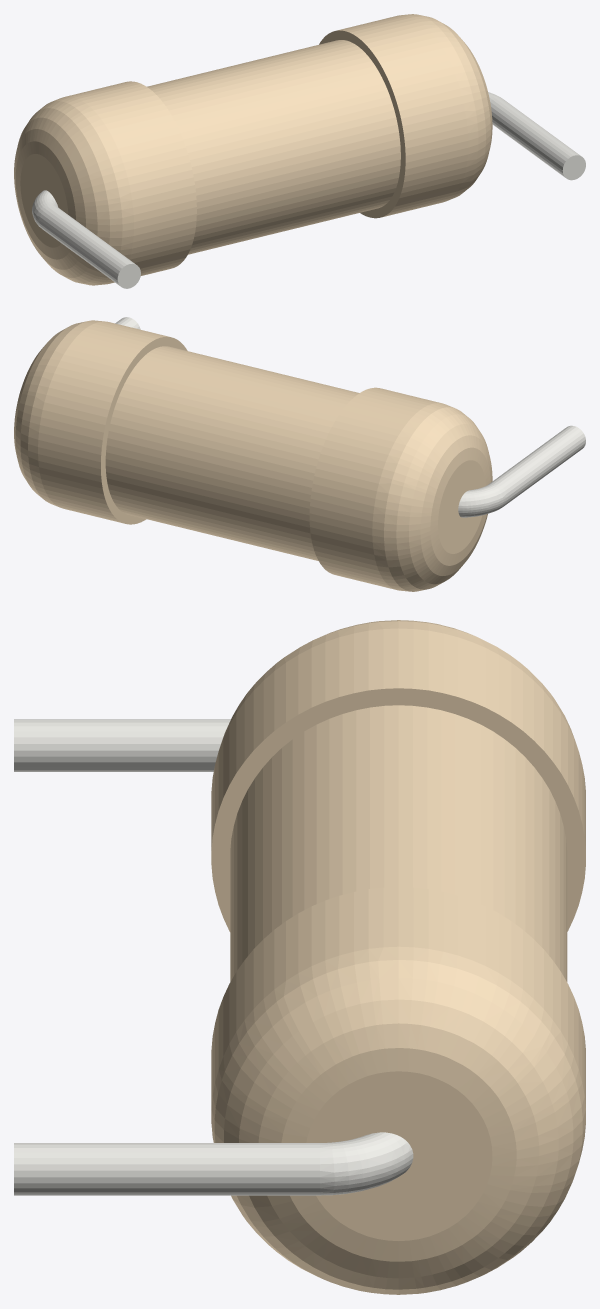
The model's file is R_Axial_DIN0614_L14.3mm_D5.7mm_P15.24mm_Horizontal.glb.
3 renders of one model, top to bottom at view 1: azimuth 30°, elevation 25°; view 2: azimuth 150°, elevation 25°; view 3: azimuth 270°, elevation 25°, orthographic. The views are drawn at different scales.
Parts seen in each view (by area): view 1: Shape_IndexedFaceSet.004, Shape_IndexedFaceSet, Shape_IndexedFaceSet.008, Shape_IndexedFaceSet.010, Shape_IndexedFaceSet.001, Shape_IndexedFaceSet.013, Shape_IndexedFaceSet.007, Shape_IndexedFaceSet.011, Shape_IndexedFaceSet.002, Shape_IndexedFaceSet.012, Shape_IndexedFaceSet.009, Shape_IndexedFaceSet.014; view 2: Shape_IndexedFaceSet.004, Shape_IndexedFaceSet.010, Shape_IndexedFaceSet.008, Shape_IndexedFaceSet, Shape_IndexedFaceSet.001, Shape_IndexedFaceSet.011, Shape_IndexedFaceSet.013, Shape_IndexedFaceSet.002, Shape_IndexedFaceSet.012; view 3: Shape_IndexedFaceSet.001, Shape_IndexedFaceSet.004, Shape_IndexedFaceSet.008, Shape_IndexedFaceSet, Shape_IndexedFaceSet.003, Shape_IndexedFaceSet.007, Shape_IndexedFaceSet.006, Shape_IndexedFaceSet.013, Shape_IndexedFaceSet.005, Shape_IndexedFaceSet.010.
Part boxes in pixels (x1,y1,x2,y2): Shape_IndexedFaceSet.004: (147,40,400,254); Shape_IndexedFaceSet: (337,15,468,217); Shape_IndexedFaceSet.008: (65,81,196,283); Shape_IndexedFaceSet.010: (14,96,133,285); Shape_IndexedFaceSet.001: (402,14,492,200); Shape_IndexedFaceSet.013: (39,206,135,285); Shape_IndexedFaceSet.007: (490,97,580,177); Shape_IndexedFaceSet.011: (20,154,68,247); Shape_IndexedFaceSet.002: (319,30,405,218); Shape_IndexedFaceSet.012: (32,190,58,227); Shape_IndexedFaceSet.009: (562,155,585,180); Shape_IndexedFaceSet.014: (117,264,140,288); Shape_IndexedFaceSet.004: (105,346,359,560); Shape_IndexedFaceSet.010: (372,403,492,591); Shape_IndexedFaceSet.008: (309,387,441,589); Shape_IndexedFaceSet: (38,321,169,523); Shape_IndexedFaceSet.001: (14,320,103,507); Shape_IndexedFaceSet.011: (438,460,485,553); Shape_IndexedFaceSet.013: (489,425,585,505); Shape_IndexedFaceSet.002: (101,336,187,524); Shape_IndexedFaceSet.012: (458,483,507,517); Shape_IndexedFaceSet.001: (211,946,585,1294); Shape_IndexedFaceSet.004: (230,705,567,981); Shape_IndexedFaceSet.008: (211,628,585,850); Shape_IndexedFaceSet: (211,887,585,1108); Shape_IndexedFaceSet.003: (306,1071,492,1240); Shape_IndexedFaceSet.007: (14,1143,319,1195); Shape_IndexedFaceSet.006: (211,688,585,931); Shape_IndexedFaceSet.013: (14,719,230,771); Shape_IndexedFaceSet.005: (320,1132,413,1195); Shape_IndexedFaceSet.010: (220,620,576,745).
Bounding box in the file's own units: 6.31 × 2.24 × 3.42.
